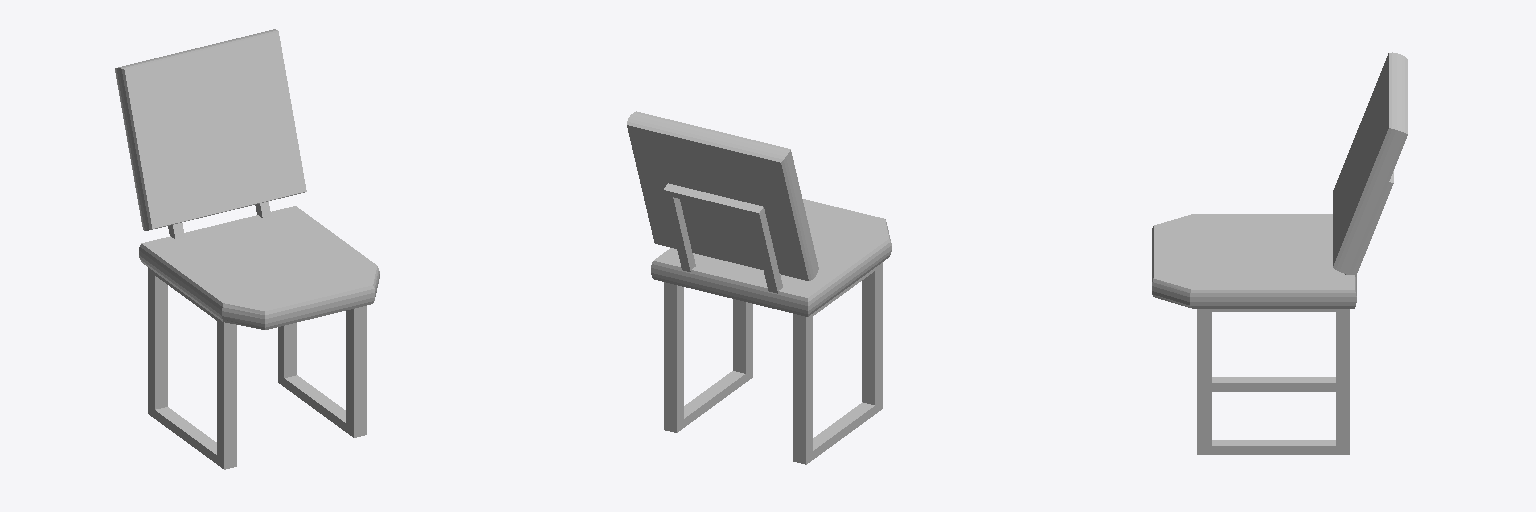
File: Стул 1.obj
The picture shows the model from 3 angles: view 1: azimuth 30°, elevation 25°; view 2: azimuth 150°, elevation 25°; view 3: azimuth 270°, elevation 25°; orthographic projection.
Parts seen in each view (by area): view 1: Cube.003_Cube.006, Cube.002_Cube.005, Cube_Cube.001, Cube.001_Cube.003; view 2: Cube.003_Cube.006, Cube.002_Cube.005, Cube_Cube.001, Cube.001_Cube.003, Cube.004_Cube.007; view 3: Cube.002_Cube.005, Cube.003_Cube.006, Cube.001_Cube.003, Cube_Cube.001.
Part boxes in pixels (x1,y1,x2,y2): Cube.003_Cube.006: (115,29,306,230); Cube.002_Cube.005: (139,206,379,329); Cube_Cube.001: (148,267,236,469); Cube.001_Cube.003: (278,306,366,437); Cube.003_Cube.006: (627,111,818,280); Cube.002_Cube.005: (651,199,891,316); Cube_Cube.001: (793,262,882,464); Cube.001_Cube.003: (664,282,752,432); Cube.004_Cube.007: (663,183,782,293); Cube.002_Cube.005: (1152,214,1356,308); Cube.003_Cube.006: (1333,52,1407,273); Cube.001_Cube.003: (1197,309,1349,454); Cube_Cube.001: (1212,377,1335,391).
Bounding box in the file's own units: 2.45 × 4.92 × 3.45.